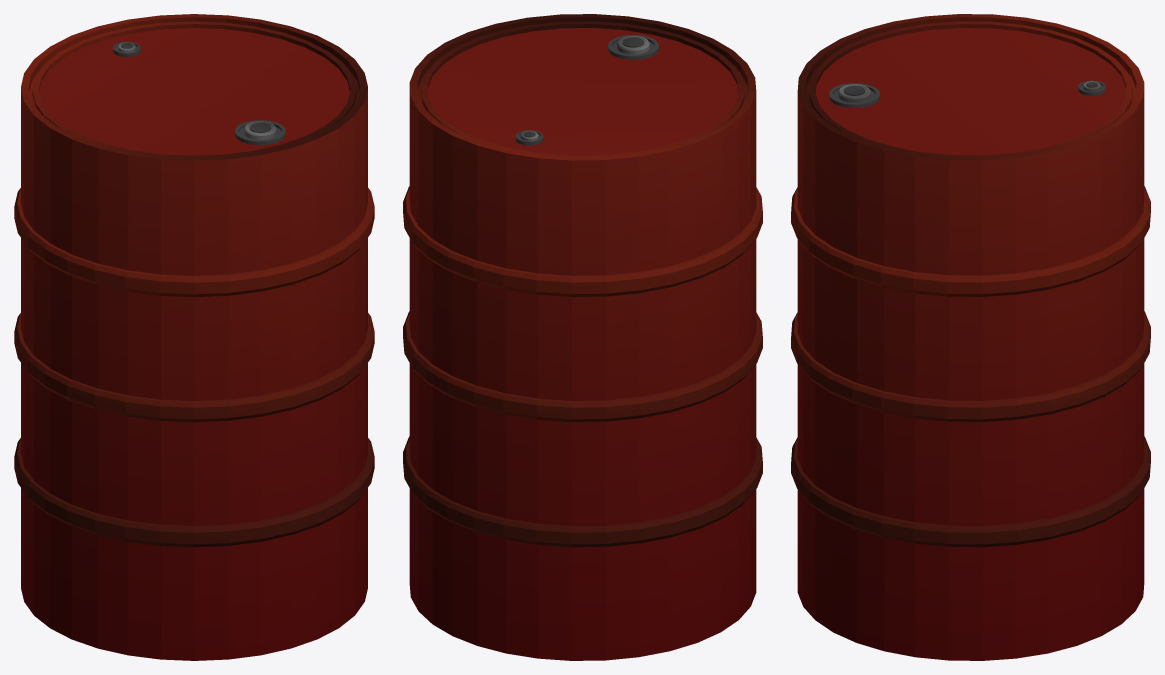
The model's file is Industrial Barrel Red.fbx.
The picture shows the model from 3 angles, left to right: view 1: azimuth 30°, elevation 25°; view 2: azimuth 150°, elevation 25°; view 3: azimuth 270°, elevation 25°; orthographic projection.
Parts seen in each view (by area): view 1: Industrial Barrel #7; view 2: Industrial Barrel #7; view 3: Industrial Barrel #7.
Boxes of the visible parts, <box> form: Industrial Barrel #7: <box>14,14,374,660</box>; Industrial Barrel #7: <box>403,14,762,660</box>; Industrial Barrel #7: <box>791,14,1150,660</box>.
Size of the model in its own units: 429 by 279 by 279.
1 material, 1 textured.
